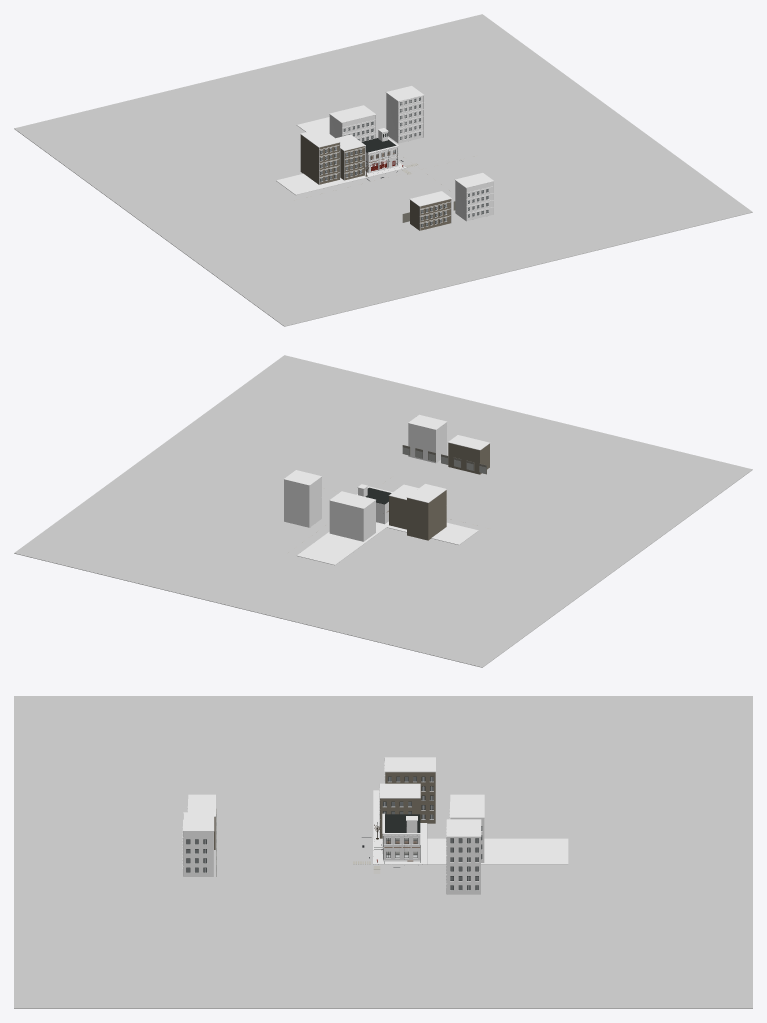
The model's file is result.glb.
3 renders of one model, top to bottom at view 1: azimuth 30°, elevation 25°; view 2: azimuth 150°, elevation 25°; view 3: azimuth 270°, elevation 25°, orthographic. The views are drawn at different scales.
Visible parts, largest first — view 1: Continuous street, Urban neighbor.003, Urban neighbor.001, Urban neighbor.005, Urban neighbor.004, Urban neighbor.002, Continuous west sidewalk, Urban neighbor; view 2: Continuous street, Urban neighbor.003, Urban neighbor.002, Urban neighbor.001, Continuous north sidewalk, Urban neighbor.005, Urban neighbor.004, Continuous west sidewalk, Urban neighbor; view 3: Continuous street, Continuous north sidewalk, Urban neighbor.003, Urban neighbor.005, Urban neighbor.001, Neighbor cornice.002, Neighbor cornice.001, Neighbor cornice, Urban neighbor, Neighbor cornice.003, Neighbor cornice.005, Sidewalk (+1 smaller).
Part boxes in pixels (x1,y1,x2,y2): Continuous street: [14, 14, 752, 326]; Urban neighbor.003: [386, 93, 423, 143]; Urban neighbor.001: [300, 135, 339, 184]; Urban neighbor.005: [455, 180, 493, 220]; Urban neighbor.004: [410, 199, 450, 230]; Urban neighbor.002: [329, 115, 375, 141]; Continuous west sidewalk: [276, 173, 367, 195]; Urban neighbor: [340, 146, 364, 180]; Continuous street: [14, 355, 752, 667]; Urban neighbor.003: [284, 477, 321, 527]; Urban neighbor.002: [329, 500, 375, 541]; Urban neighbor.001: [407, 490, 446, 540]; Continuous north sidewalk: [297, 524, 386, 565]; Urban neighbor.005: [408, 422, 446, 463]; Urban neighbor.004: [448, 443, 489, 474]; Continuous west sidewalk: [386, 522, 478, 544]; Urban neighbor: [389, 496, 406, 529]; Continuous street: [14, 696, 752, 1008]; Continuous north sidewalk: [427, 838, 568, 864]; Urban neighbor.003: [447, 837, 480, 894]; Urban neighbor.005: [183, 831, 213, 876]; Urban neighbor.001: [385, 772, 435, 823]; Neighbor cornice.002: [450, 794, 484, 818]; Neighbor cornice.001: [385, 757, 435, 772]; Neighbor cornice: [379, 783, 420, 798]; Urban neighbor: [380, 798, 420, 838]; Neighbor cornice.003: [447, 819, 481, 837]; Neighbor cornice.005: [183, 812, 214, 831]; Sidewalk: [373, 838, 427, 864].
Size of the model in its own units: 220 by 20.15 by 220.
